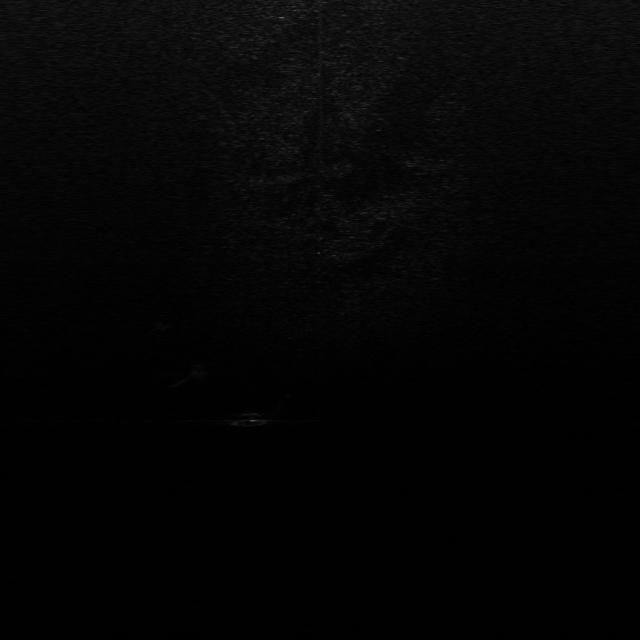ball: (189, 364, 213, 379)
circle cage: (156, 314, 180, 329)
tyre: (230, 412, 268, 428)
